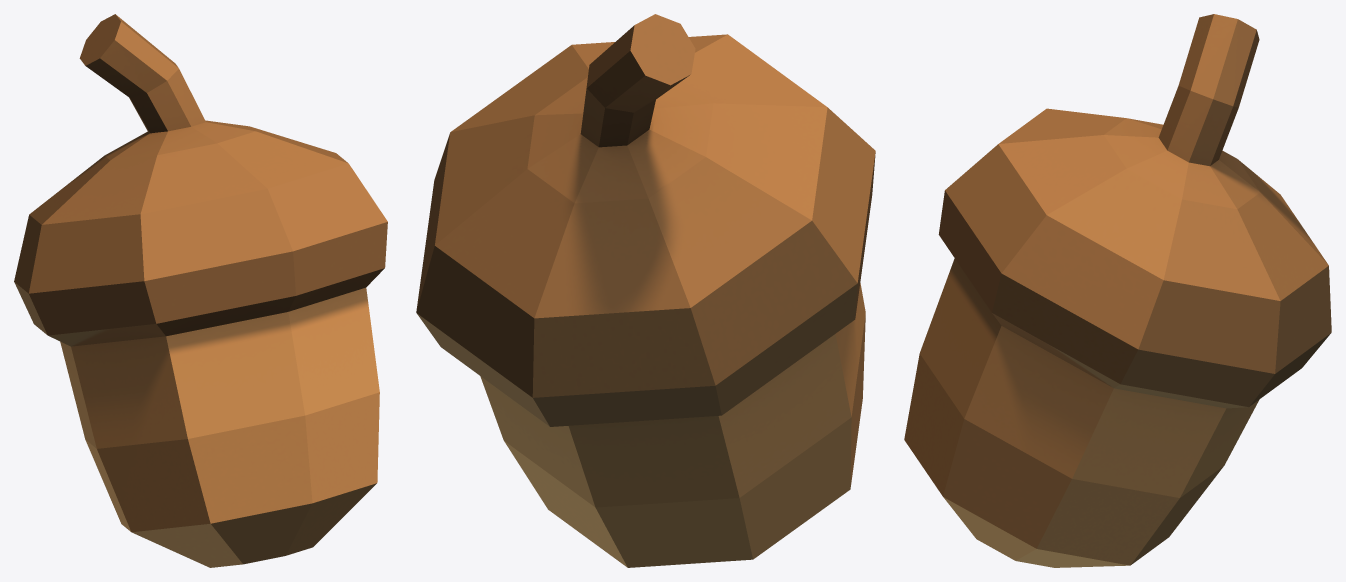
File: acorn.glb
3 views of the same model, side by side, from view 1: azimuth 30°, elevation 25°; view 2: azimuth 150°, elevation 25°; view 3: azimuth 270°, elevation 25° (orthographic). The views are drawn at different scales.
Parts seen in each view (by area): view 1: Object_7; view 2: Object_7; view 3: Object_7.
Boxes of the visible parts, x1=… form: Object_7: x1=14, y1=14, x2=387, y2=567; Object_7: x1=416, y1=14, x2=875, y2=567; Object_7: x1=904, y1=14, x2=1331, y2=567.
Size of the model in its own units: 1.21 by 1.66 by 1.24.
1 material, 1 textured.
